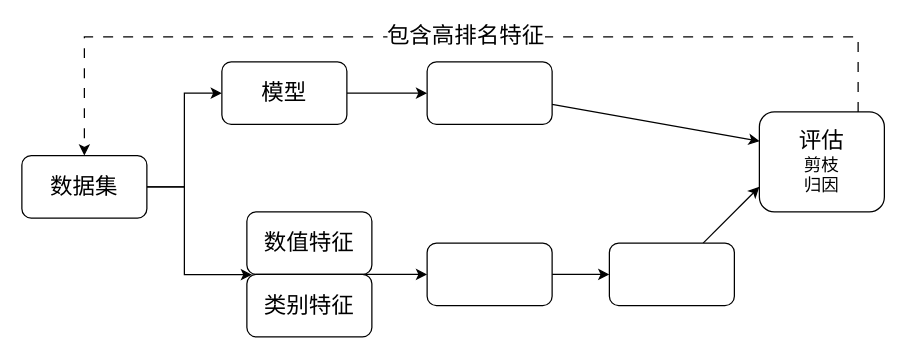
This 906x359 diagram has some shape labels left out. The shapes that lost their labels are listed below. From the top down, each one's centre as x and y in pixels, then its label:
At pixel 489 92: "预测结果".
At pixel 489 274: "操作符".
At pixel 671 274: "候选特征".
